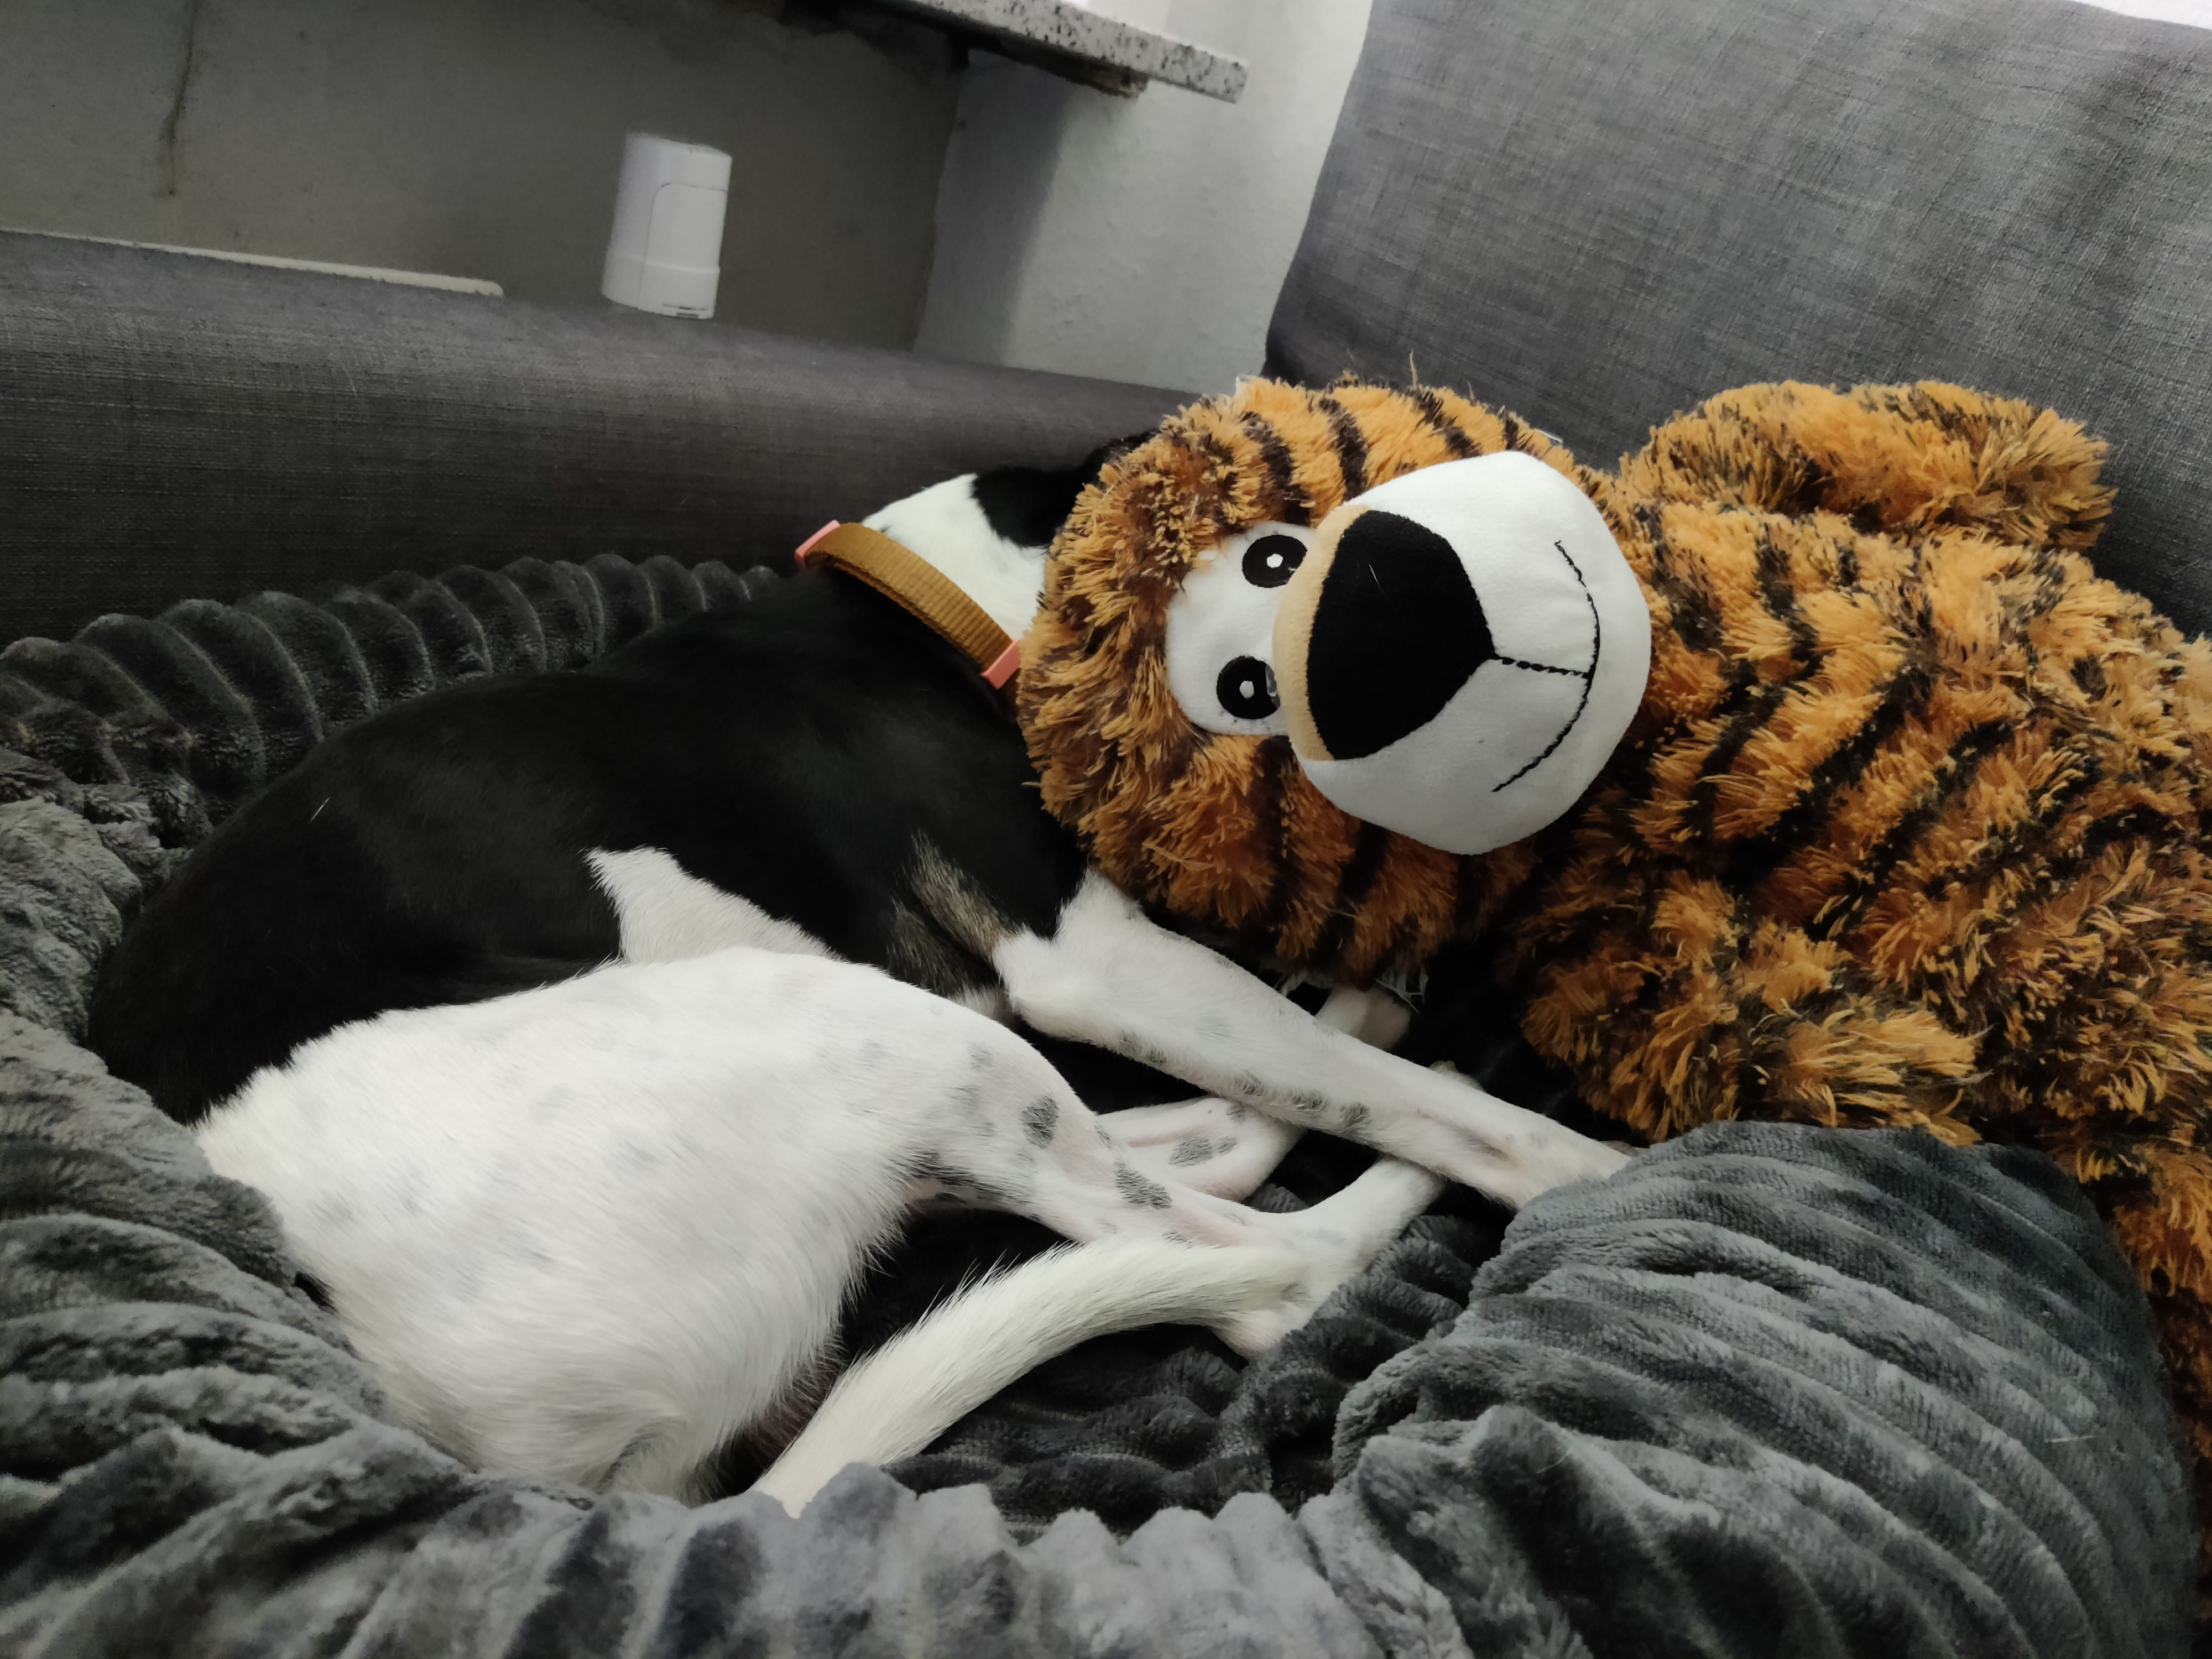Dog: (71, 420, 1656, 1539)
